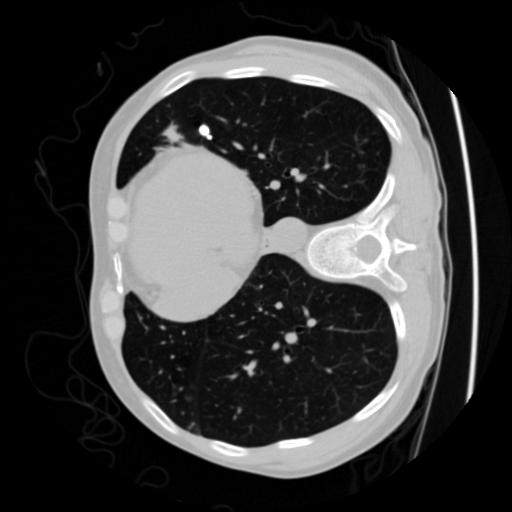nodule: (195, 121, 215, 141)
